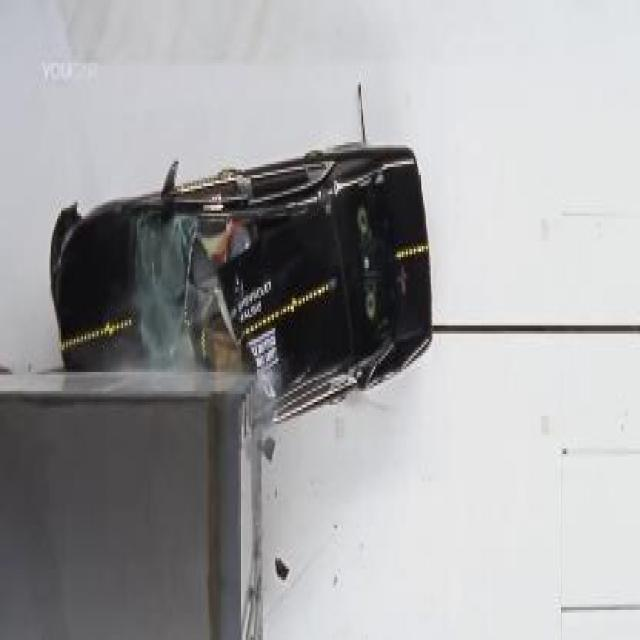accident: (0, 118, 434, 637)
